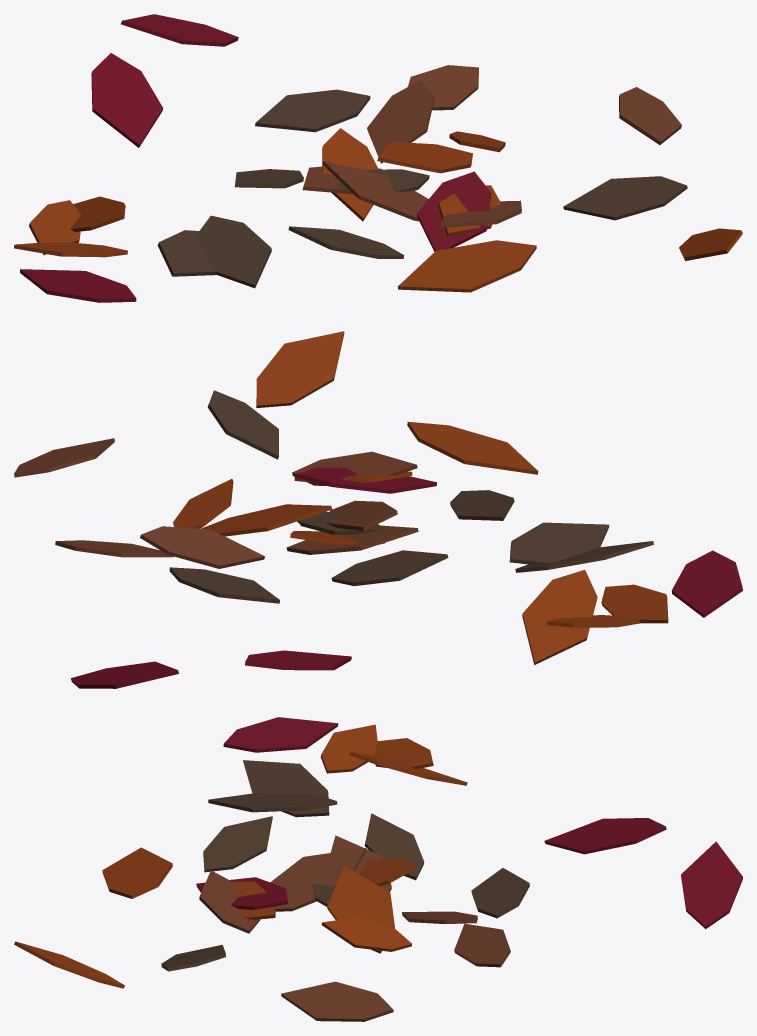
File: leaves.glb
3 renders of one model, top to bottom at view 1: azimuth 30°, elevation 25°; view 2: azimuth 150°, elevation 25°; view 3: azimuth 270°, elevation 25°, orthographic. The views are drawn at different scales.
Visible parts, largest first — view 1: leaves; view 2: leaves; view 3: leaves.
Part boxes in pixels (<box>): leaves: <box>14,14,742,302</box>; leaves: <box>14,331,742,688</box>; leaves: <box>14,717,742,1021</box>.
Bounding box in the file's own units: 0.7819 × 0.0495 × 0.8151.
